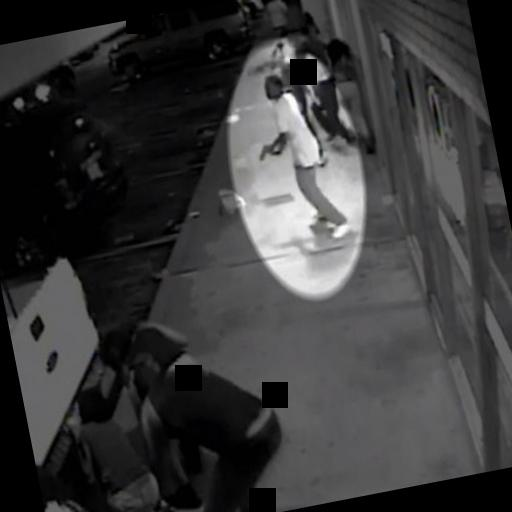Handgun: (254, 142, 274, 160)
